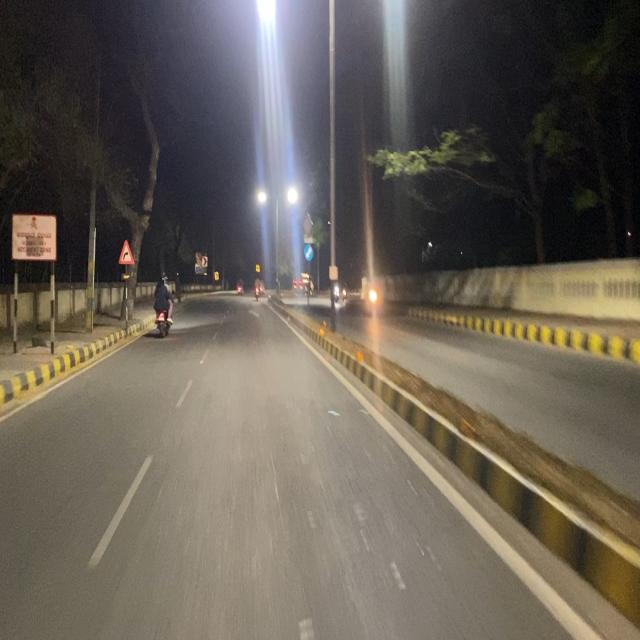bien_cam: (118, 237, 134, 267), (304, 245, 313, 261)
